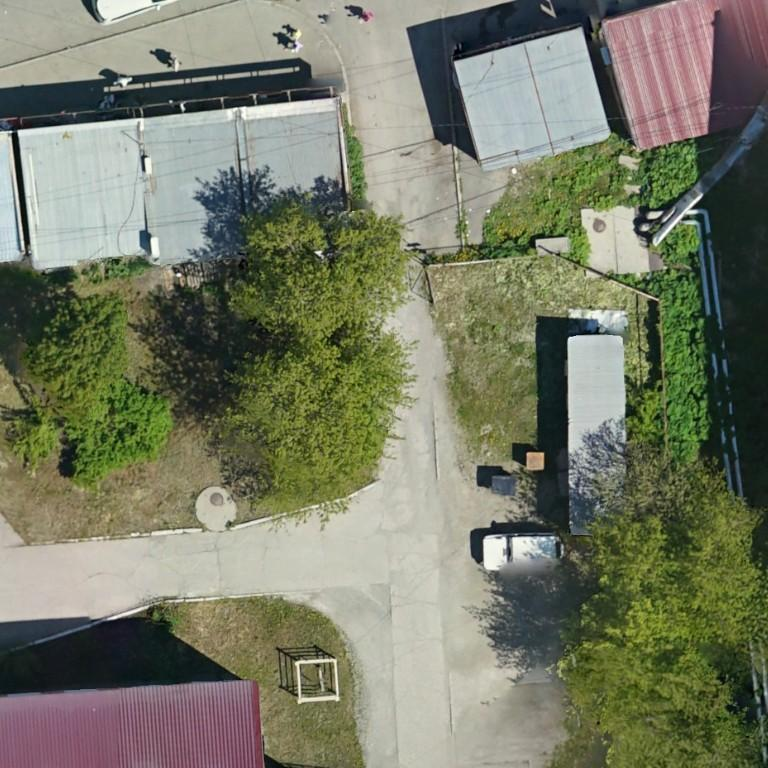hogweed: (620, 269, 713, 458), (646, 143, 720, 206)
